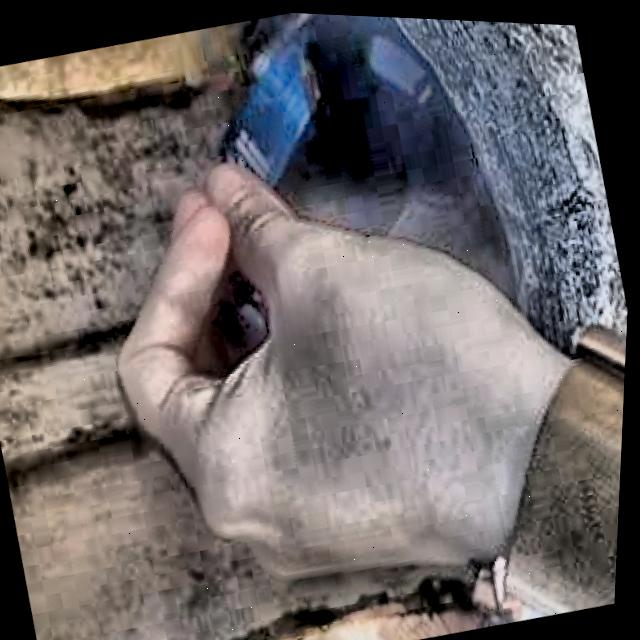glass: (278, 11, 481, 230), (209, 263, 270, 367)
